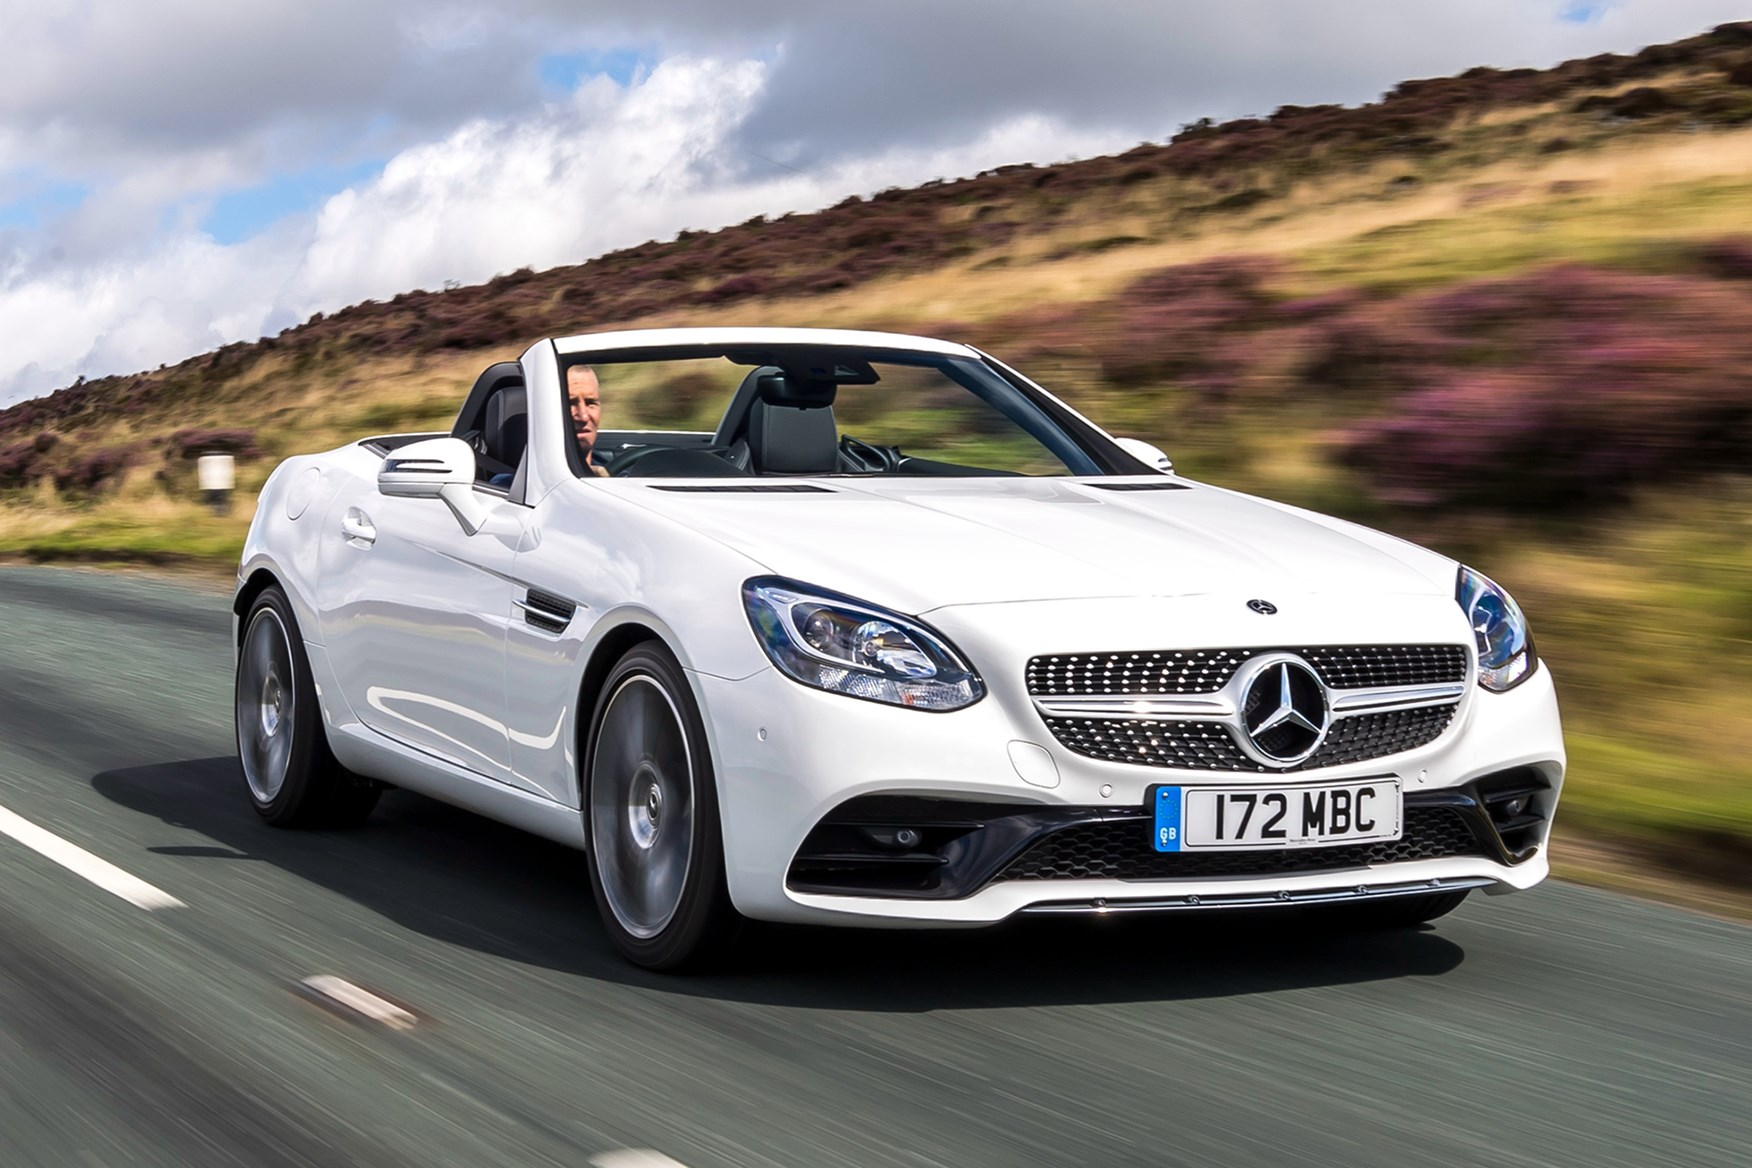car: (232, 327, 1569, 975)
